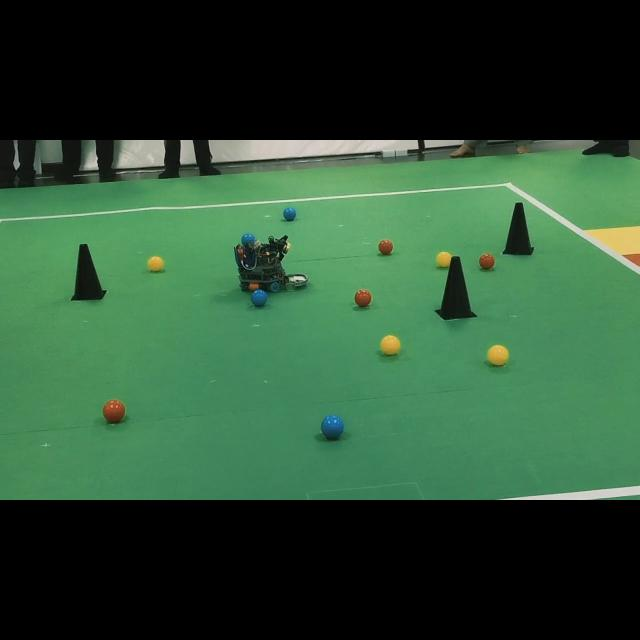ball: (321, 415, 344, 439), (102, 399, 126, 422), (380, 335, 401, 355), (488, 345, 509, 365), (355, 289, 372, 308), (251, 290, 268, 306), (436, 251, 451, 268), (148, 256, 164, 271), (379, 239, 394, 255), (479, 254, 495, 269), (241, 232, 256, 246), (284, 208, 296, 221)
goal: (585, 226, 640, 255), (624, 254, 640, 266)
